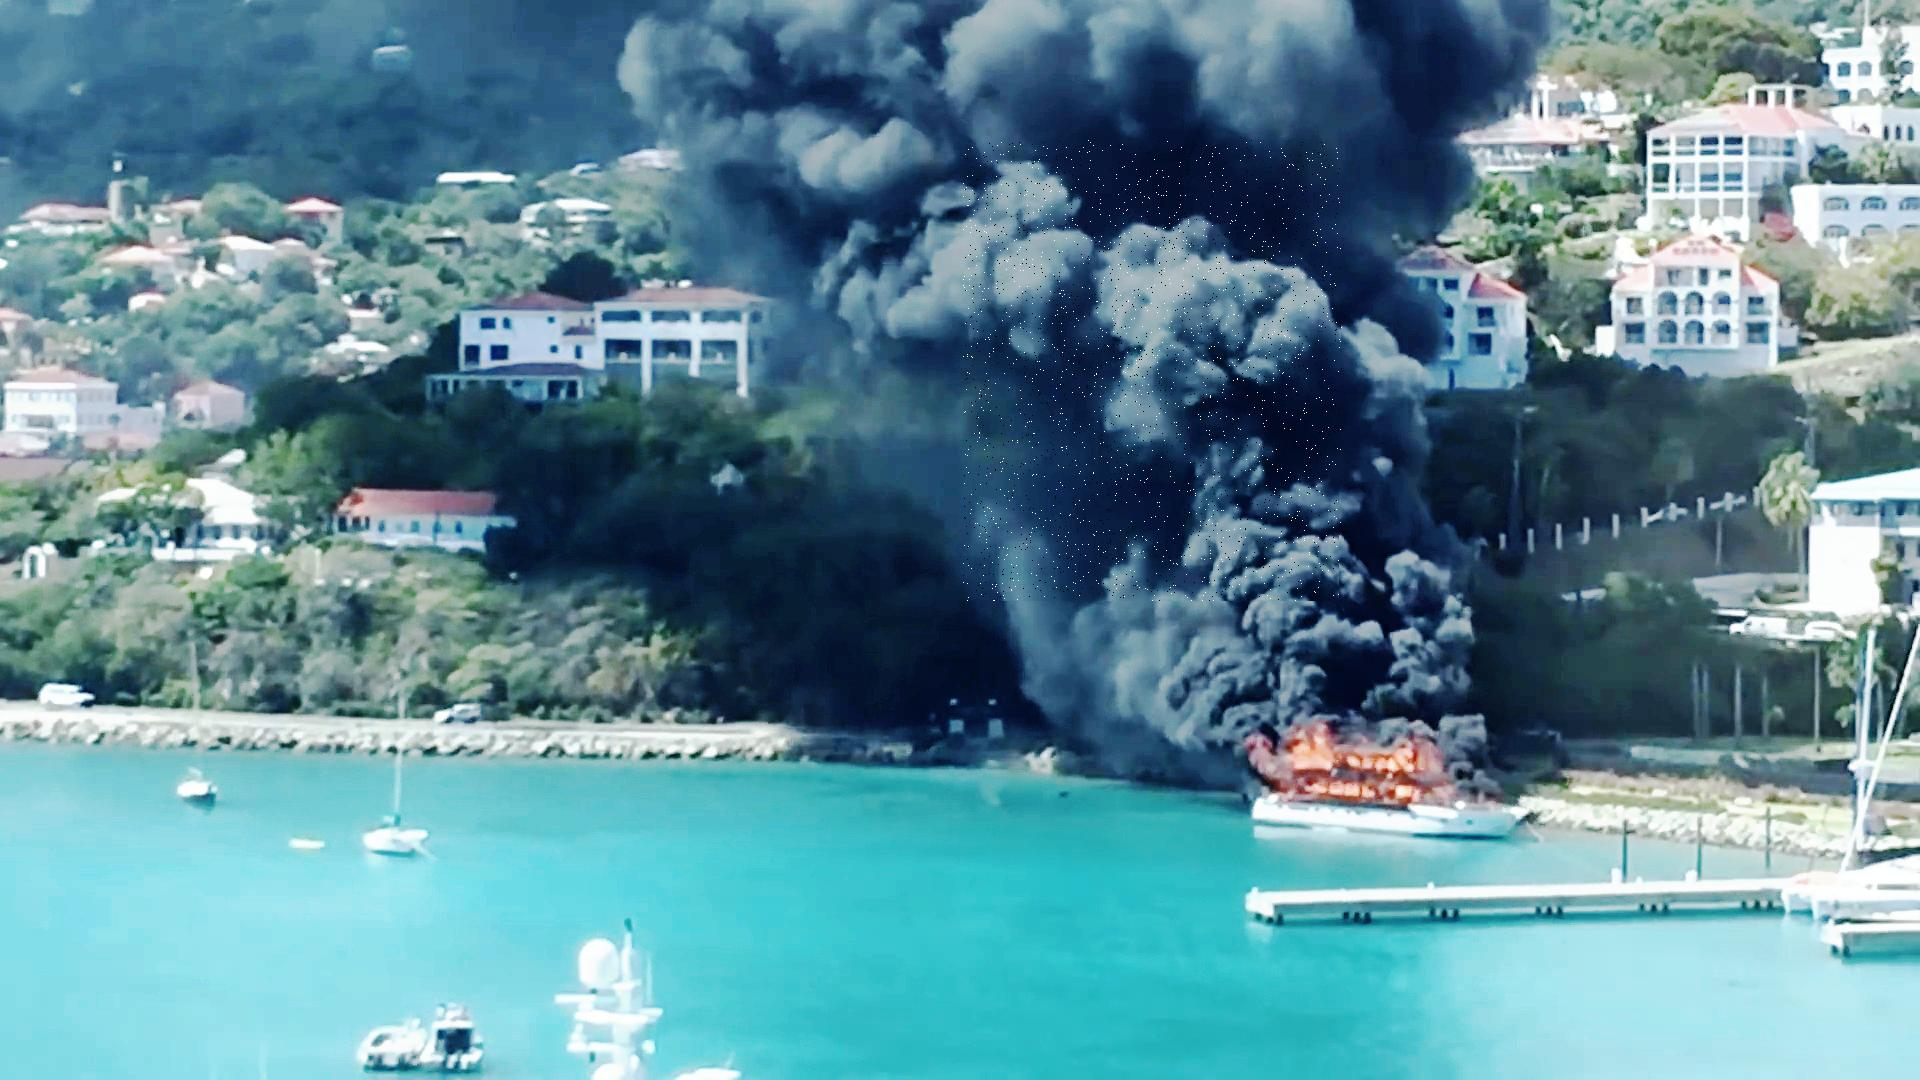smoke: (963, 140, 1342, 601)
